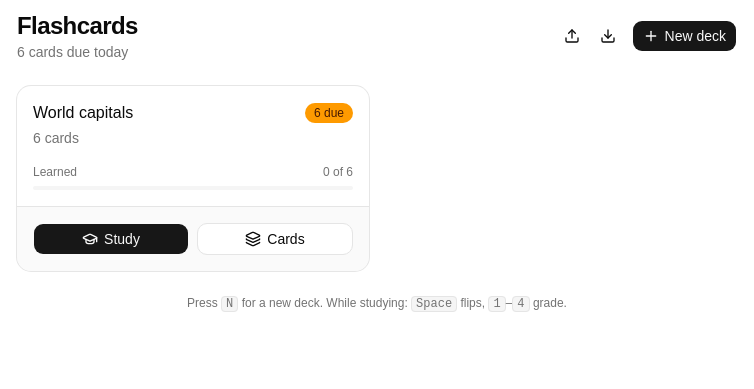
Test case: import and export › exports every deck as a JSON download
This screenshot has width=754, height=389.
Step 1. Click the button named "Export decks" → (608, 36), box [592,20,624,52]
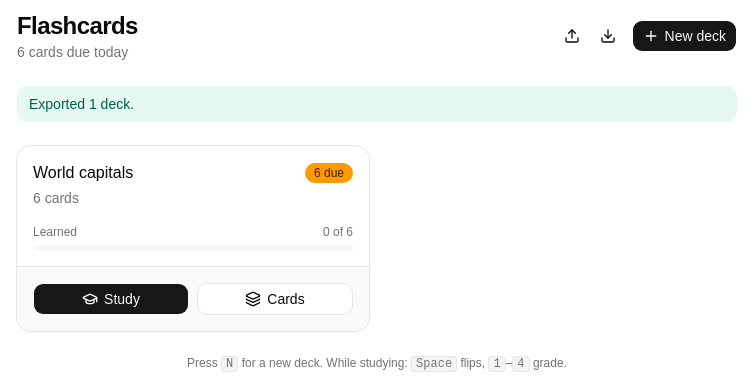
Now the message reads "Exported 1 deck.", box [29,96,134,112]
